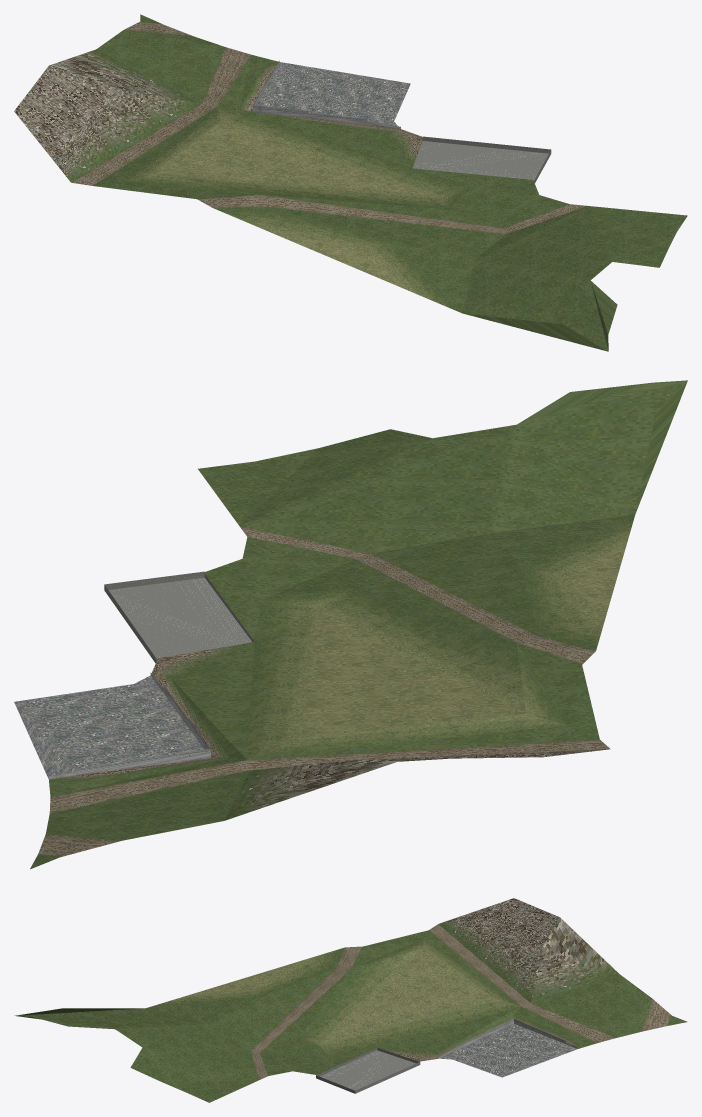
Rendered from lodcegroundt203.obj.
3 renders of one model, top to bottom at view 1: azimuth 30°, elevation 25°; view 2: azimuth 150°, elevation 25°; view 3: azimuth 270°, elevation 25°, orthographic. The views are drawn at different scales.
Visible parts, largest first — view 1: LODCEgroundT203; view 2: LODCEgroundT203; view 3: LODCEgroundT203.
Part boxes in pixels (bbox=[...]): LODCEgroundT203: bbox=[14, 14, 687, 351]; LODCEgroundT203: bbox=[14, 380, 687, 869]; LODCEgroundT203: bbox=[14, 898, 687, 1102].
Bounding box in the file's own units: 219 × 32.4 × 388.
Materials: 9 (9 with a texture image).
